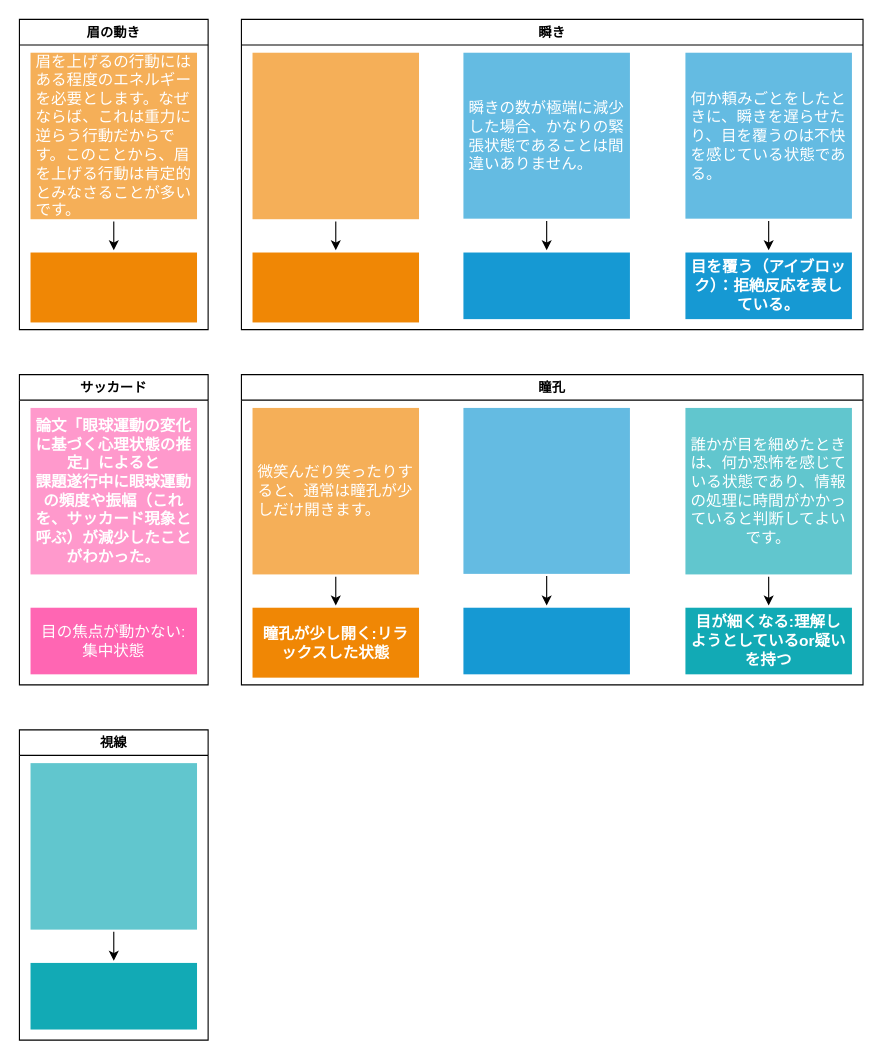
This 882x1060 diagram has some shape labels left out. The centre of each missing label's shape, as x and y in pixels:
6~10の瞬きはリラックスされたフラットな状態: the point at 335,135
この「瞳孔が開く」という現象は、重要な場面でこそ顕著に現れます。: the point at 546,490
フラッシュとも呼ばれる急激な眉の上昇が見られる場合、それは良い兆候です: the point at 113,287
極端に少ない瞬き：噓の可能性、緊張状態: the point at 546,285
物事が不可能に思えるときや、人が不運に見舞われたときに、天井や空を見上げる人もいます。: the point at 113,846
目を見開く:瞳孔を広げ脅威を見つけるため: the point at 546,640
瞬きの回数が10秒に1~2回：正常な状態: the point at 335,287
見上げる:信じられない: the point at 113,995
